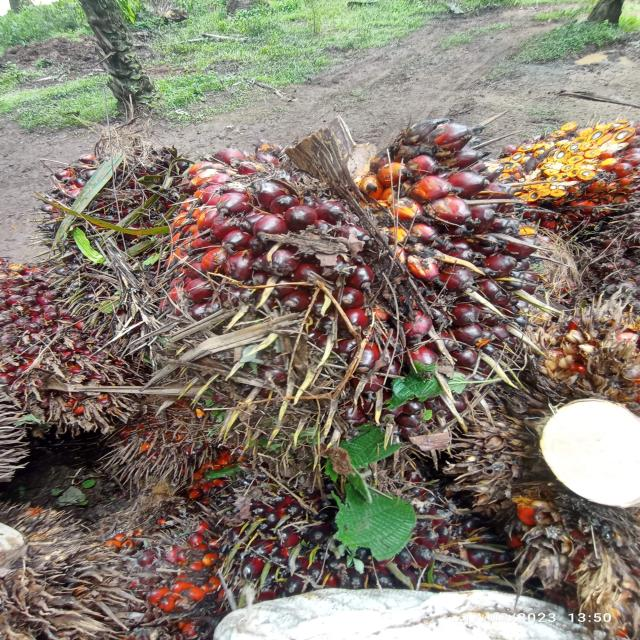fraksi 1: (119, 71, 595, 434), (205, 422, 475, 610), (0, 225, 146, 438)
fraksi 3: (47, 488, 230, 634)
